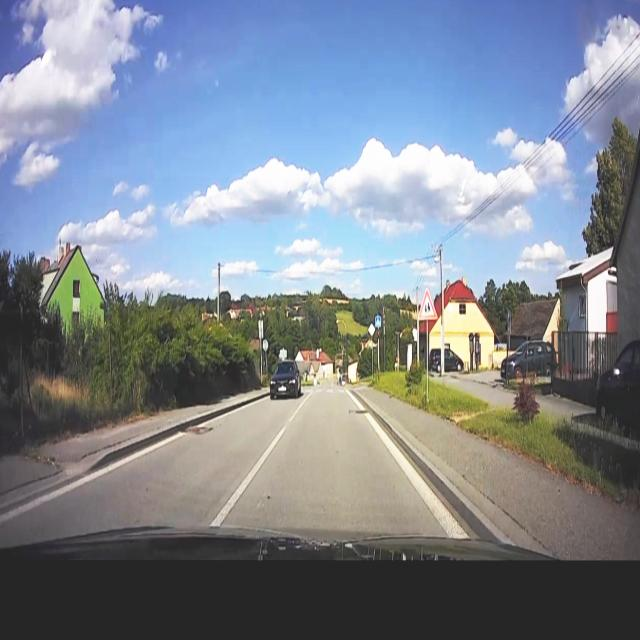Priority road: (368, 322, 376, 337)
